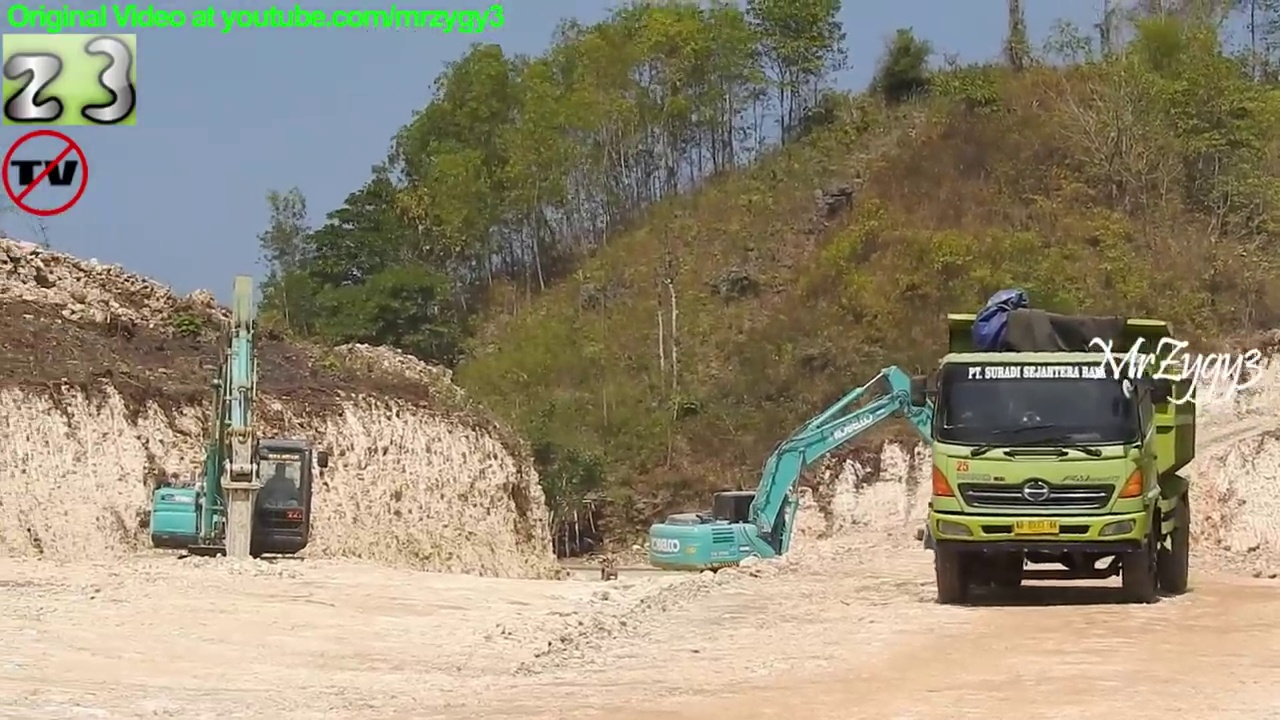excavator: (644, 359, 1012, 607), (144, 271, 337, 607)
truck: (923, 305, 1203, 610)
